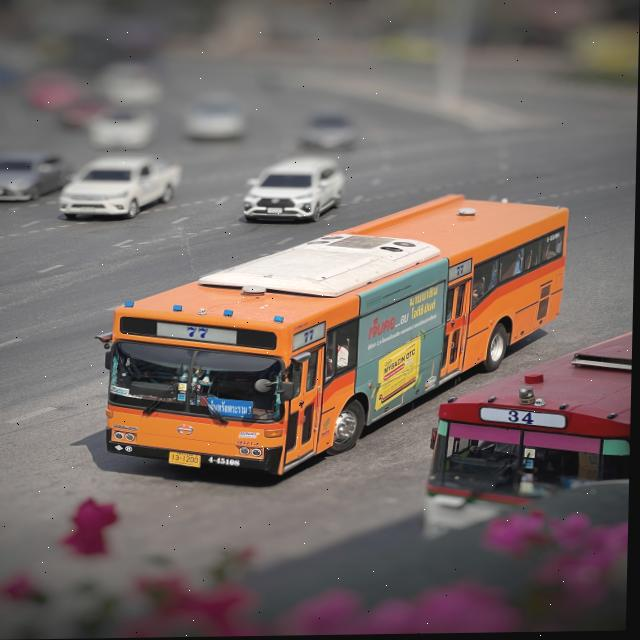BMTA-bus: (100, 195, 573, 481)
Bus-Line-Number: (179, 323, 215, 342), (297, 326, 325, 349)
Destination-Sign-Normal: (203, 396, 257, 421)
